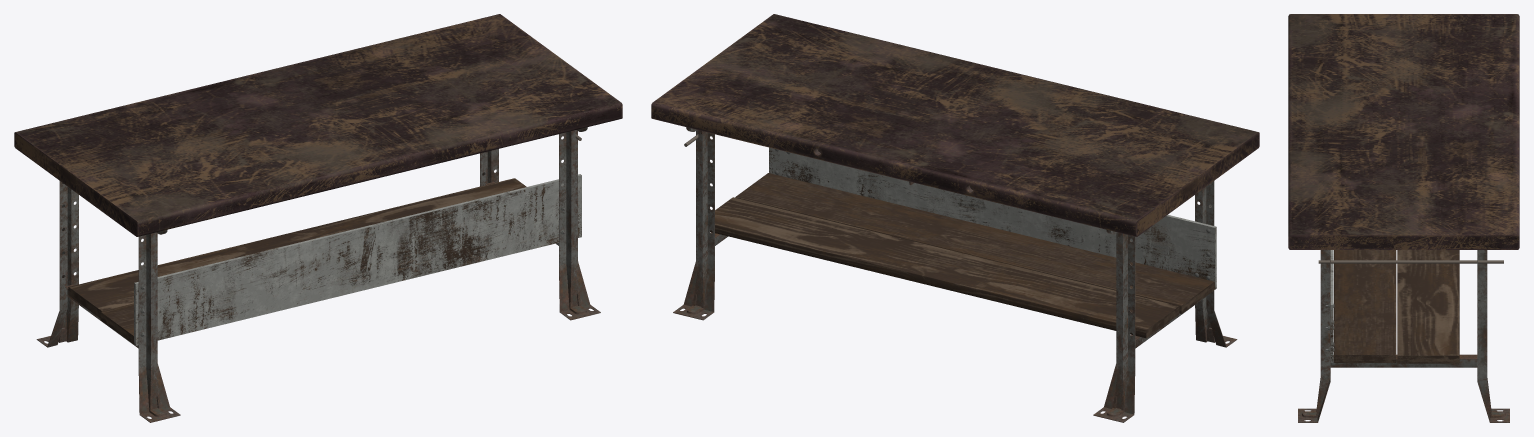
File: WorkbenchCompressed.glb
3 renders of one model, left to right at view 1: azimuth 30°, elevation 25°; view 2: azimuth 150°, elevation 25°; view 3: azimuth 270°, elevation 25°, orthographic. The views are drawn at different scales.
Visible parts, largest first — view 1: Wood_WorkTable, Metal_WorkTable; view 2: Wood_WorkTable, Metal_WorkTable; view 3: Wood_WorkTable, Metal_WorkTable.
Boxes of the visible parts, x1,y1,x2,y2 form: Wood_WorkTable: (14, 14, 622, 345); Metal_WorkTable: (36, 127, 600, 422); Wood_WorkTable: (651, 14, 1259, 338); Metal_WorkTable: (673, 127, 1237, 422); Wood_WorkTable: (1288, 14, 1519, 363); Metal_WorkTable: (1298, 250, 1509, 422).
Bounding box in the file's own units: 1.74 × 0.7178 × 0.7695.
2 materials, 2 textured.
